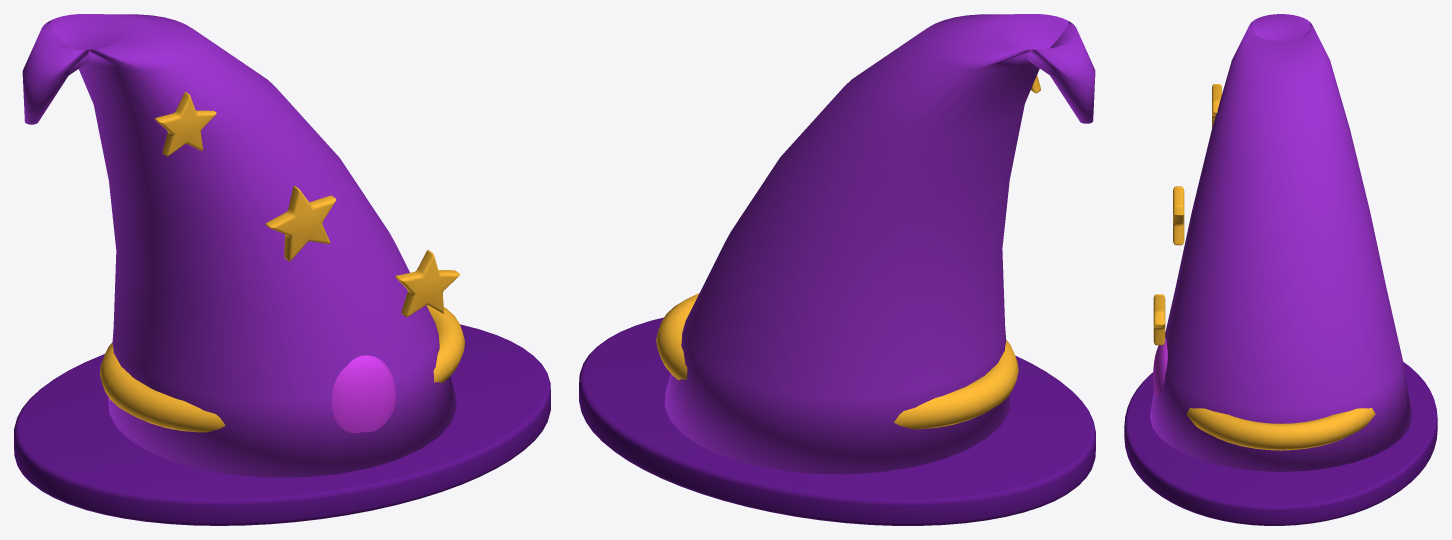
File: wizardhat.glb
The picture shows the model from 3 angles, left to right: view 1: azimuth 30°, elevation 25°; view 2: azimuth 150°, elevation 25°; view 3: azimuth 270°, elevation 25°; orthographic projection. The views are drawn at different scales.
Parts seen in each view (by area): view 1: wizardhat_Bent Cone, wizardhat_Brim, wizardhat_Gold Band, wizardhat_Band Gem, wizardhat_Middle Star, wizardhat_Lower Star, wizardhat_Upper Star; view 2: wizardhat_Bent Cone, wizardhat_Brim, wizardhat_Gold Band; view 3: wizardhat_Bent Cone, wizardhat_Brim, wizardhat_Gold Band, wizardhat_Middle Star, wizardhat_Lower Star, wizardhat_Band Gem.
Part boxes in pixels (x1,y1,x2,y2): wizardhat_Bent Cone: [22, 14, 456, 477]; wizardhat_Brim: [14, 324, 550, 525]; wizardhat_Gold Band: [99, 305, 464, 432]; wizardhat_Band Gem: [331, 355, 396, 433]; wizardhat_Middle Star: [265, 185, 336, 261]; wizardhat_Lower Star: [395, 250, 459, 317]; wizardhat_Upper Star: [155, 92, 216, 156]; wizardhat_Bent Cone: [664, 14, 1095, 474]; wizardhat_Brim: [579, 317, 1095, 525]; wizardhat_Gold Band: [656, 293, 1018, 429]; wizardhat_Bent Cone: [1150, 14, 1411, 471]; wizardhat_Brim: [1124, 362, 1437, 525]; wizardhat_Gold Band: [1186, 408, 1375, 450]; wizardhat_Middle Star: [1173, 186, 1184, 245]; wizardhat_Lower Star: [1153, 294, 1165, 345]; wizardhat_Band Gem: [1153, 338, 1167, 396].
Size of the model in its own units: 0.6773 by 0.5825 by 0.4894.
